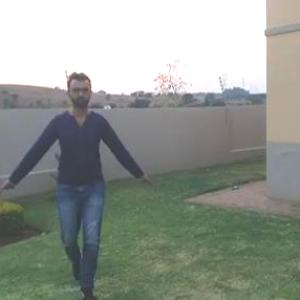land: (1, 61, 153, 299)
